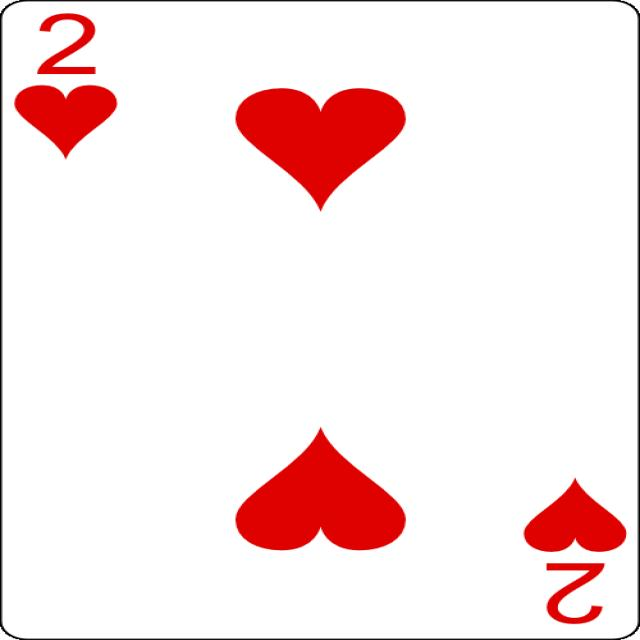Heart: (235, 88, 407, 212), (235, 427, 406, 551), (13, 84, 118, 159), (523, 477, 627, 552)
